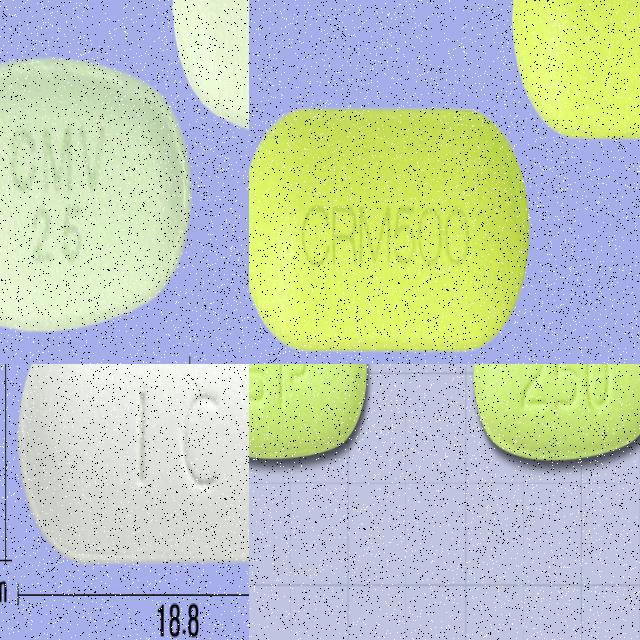Ciroctan: (13, 364, 249, 570)
Clocide: (0, 53, 190, 336)
Clocin Film Coated Tab: (474, 364, 640, 461), (249, 364, 368, 461)
Crama: (249, 105, 530, 350), (511, 0, 640, 134)
